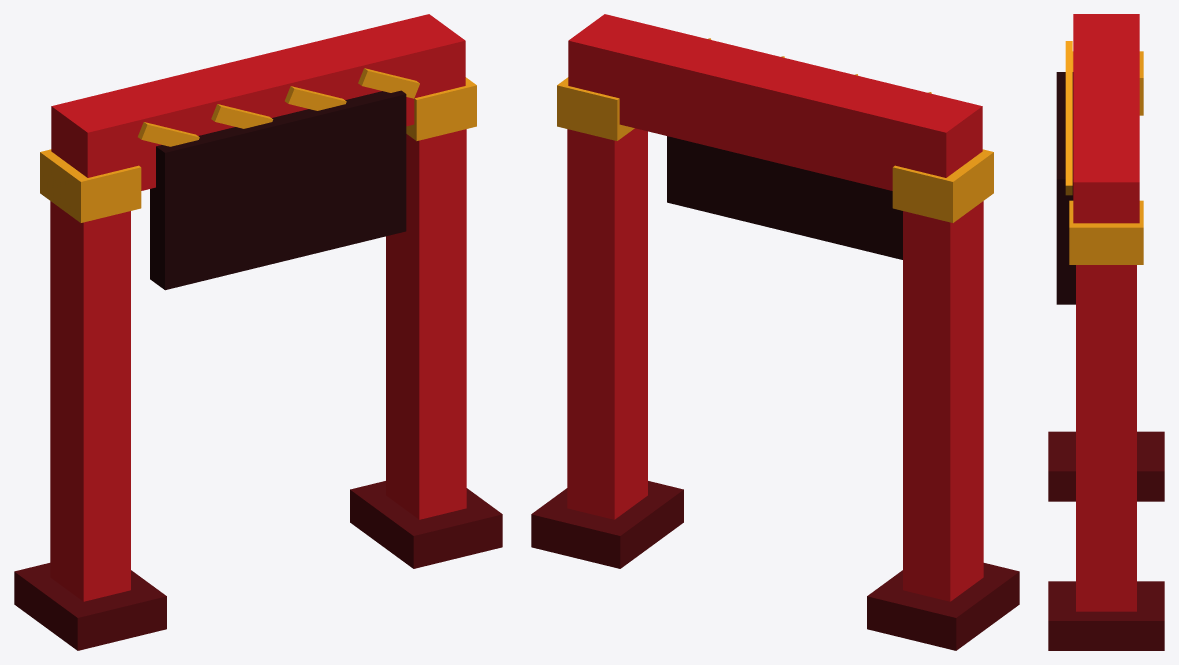
The model's file is gate_negative.glb.
3 renders of one model, left to right at view 1: azimuth 30°, elevation 25°; view 2: azimuth 150°, elevation 25°; view 3: azimuth 270°, elevation 25°, orthographic. The views are drawn at different scales.
Visible parts, largest first — view 1: NegativeGate; view 2: NegativeGate; view 3: NegativeGate.
Part boxes in pixels (x1,y1,x2,y2): NegativeGate: [14, 14, 502, 650]; NegativeGate: [531, 14, 1019, 650]; NegativeGate: [1048, 14, 1164, 650].
Bounding box in the file's own units: 1.62 × 1.83 × 0.42.
